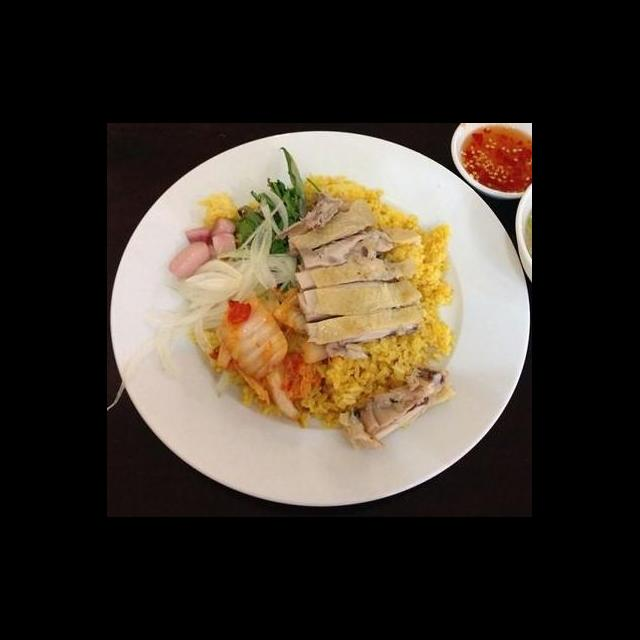com: (288, 320, 458, 432), (376, 203, 456, 266), (300, 172, 388, 213), (408, 260, 460, 322)
com ga: (115, 155, 532, 517)
rau ram: (226, 145, 312, 254)
thit ga: (290, 253, 428, 353), (334, 362, 458, 452), (274, 194, 398, 271)
